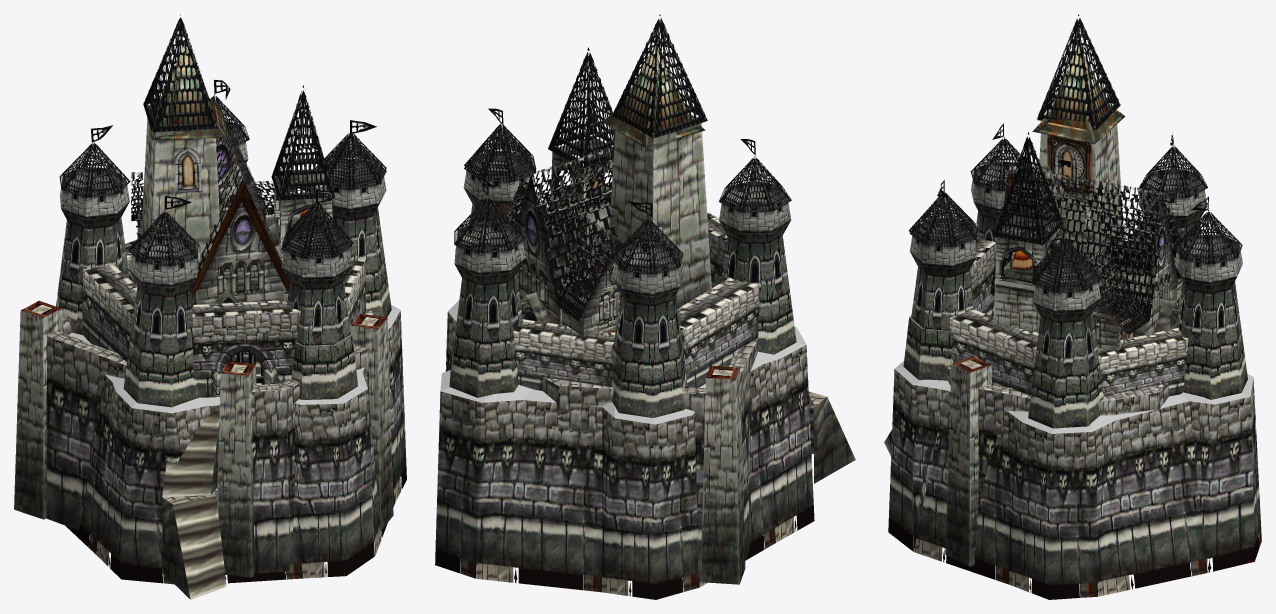
File: TownHall.dae
3 renders of one model, left to right at view 1: azimuth 30°, elevation 25°; view 2: azimuth 150°, elevation 25°; view 3: azimuth 270°, elevation 25°, orthographic. The views are drawn at different scales.
Parts seen in each view (by area): view 1: Mesh05, Mesh33, Mesh26, Mesh01, Mesh16, Mesh31, Mesh23, Mesh18, Mesh32, Mesh29, Mesh28, Mesh35 (+1 smaller); view 2: Mesh26, Mesh33, Mesh01, Mesh05, Mesh16, Mesh18, Mesh28, Mesh32, Mesh03; view 3: Mesh26, Mesh33, Mesh01, Mesh05, Mesh31, Mesh16, Mesh18, Mesh32, Mesh29, Mesh28, Mesh23, Mesh03 (+1 smaller).
Boxes of the visible parts, x1,y1,x2,y2 form: Mesh05: [14, 301, 393, 599]; Mesh33: [56, 105, 383, 534]; Mesh26: [65, 125, 406, 584]; Mesh01: [59, 14, 386, 288]; Mesh16: [148, 45, 332, 304]; Mesh31: [281, 159, 391, 345]; Mesh23: [63, 166, 199, 407]; Mesh18: [134, 87, 335, 227]; Mesh32: [282, 133, 386, 255]; Mesh29: [291, 333, 357, 399]; Mesh28: [69, 304, 400, 413]; Mesh35: [175, 147, 202, 193]; Mesh26: [435, 222, 814, 599]; Mesh33: [449, 115, 796, 597]; Mesh01: [454, 14, 791, 305]; Mesh05: [543, 338, 855, 584]; Mesh16: [493, 46, 705, 336]; Mesh18: [510, 48, 624, 321]; Mesh28: [440, 300, 806, 424]; Mesh32: [464, 122, 536, 179]; Mesh03: [520, 195, 615, 375]; Mesh26: [888, 234, 1261, 599]; Mesh33: [910, 124, 1244, 428]; Mesh01: [909, 14, 1242, 334]; Mesh05: [884, 356, 1168, 566]; Mesh31: [910, 218, 1103, 428]; Mesh16: [996, 46, 1182, 351]; Mesh18: [1010, 158, 1186, 334]; Mesh32: [908, 191, 1100, 289]; Mesh29: [903, 316, 952, 380]; Mesh28: [895, 361, 1253, 433]; Mesh23: [1139, 168, 1203, 262]; Mesh03: [1053, 240, 1178, 332].
Size of the model in its own units: 392 by 569 by 400.
